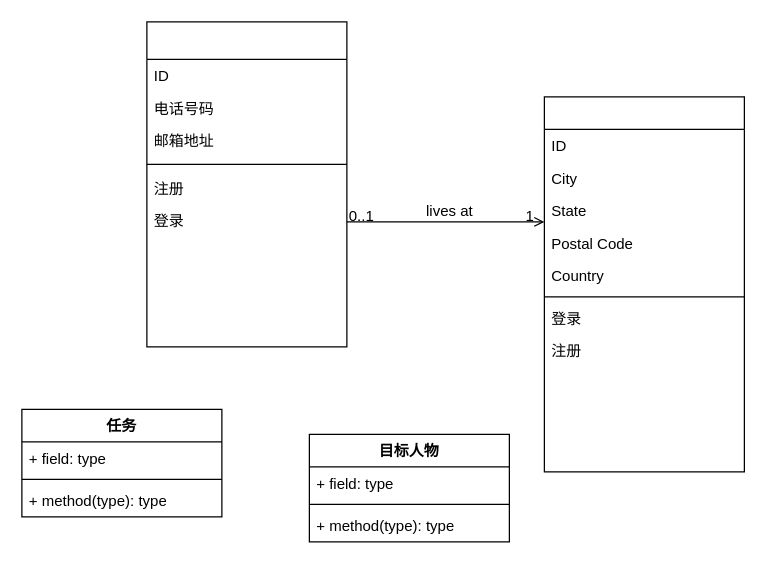
The diagram is 766 pixels wide and 568 high, and some of its shapes have lost their labels. The shapes that lost their labels are listed below. From the top down, each one's box as (x1, y1, x2, y2) in pixels, then its label:
(146, 21, 347, 347): 管理员
(543, 96, 744, 472): 用户
